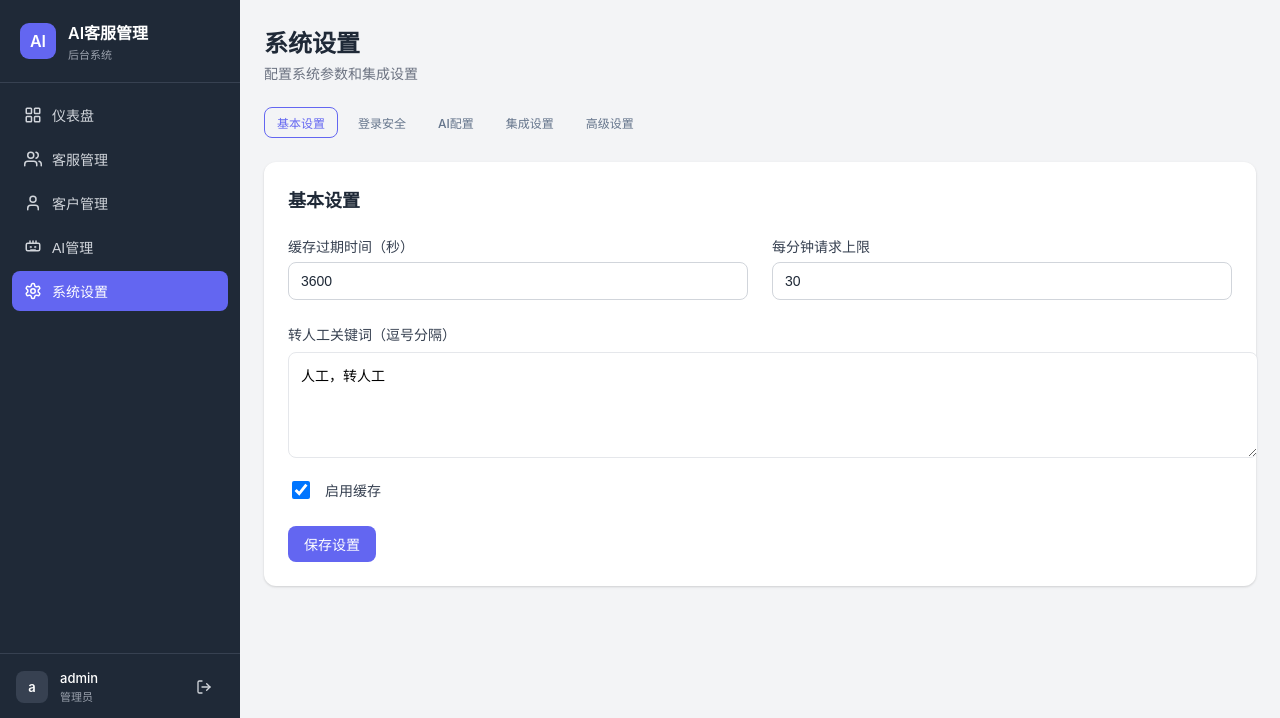
Test: SettingsPage 系统设置 › 生成并显示 Widget 嵌入代码
The width and height of the screenshot is (1280, 718).
Expected: the text "缓存过期时间（秒）" is shown, left=288, top=238, right=414, bottom=255
Click the button "集成设置": (530, 122) left=494, top=107, right=566, bottom=138
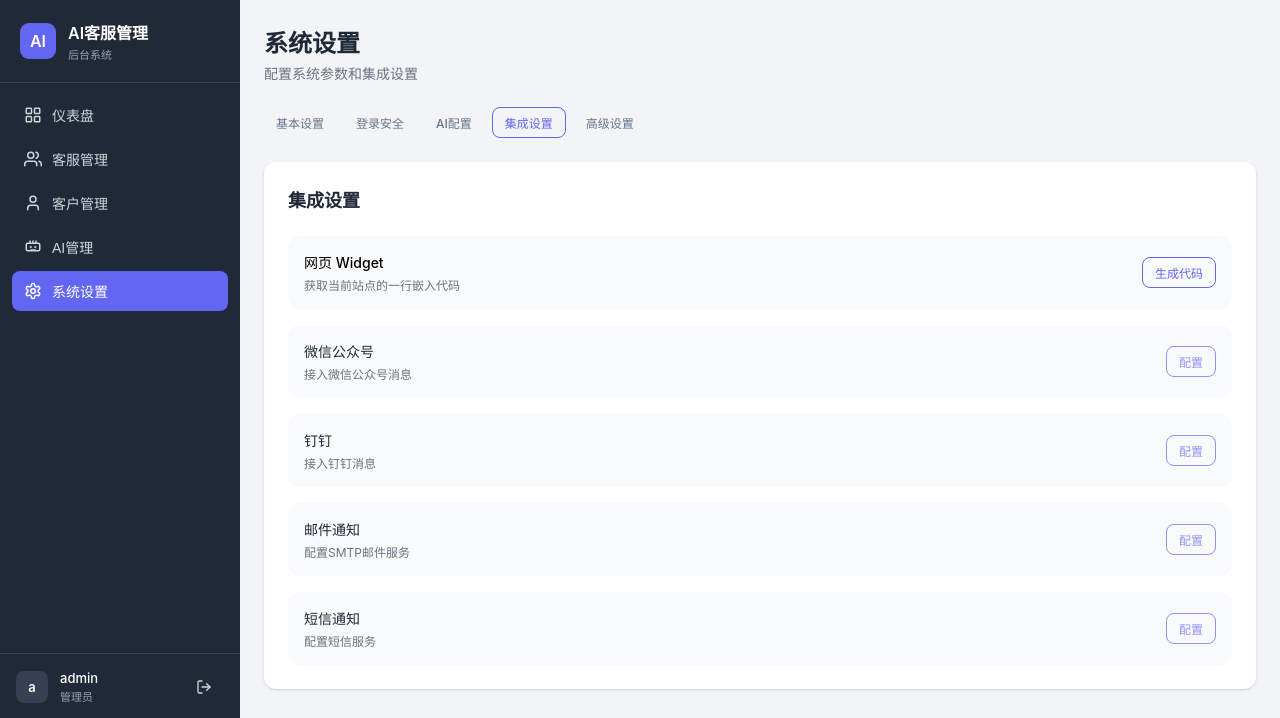
Click the button "生成代码": (1179, 272) left=1142, top=257, right=1216, bottom=288
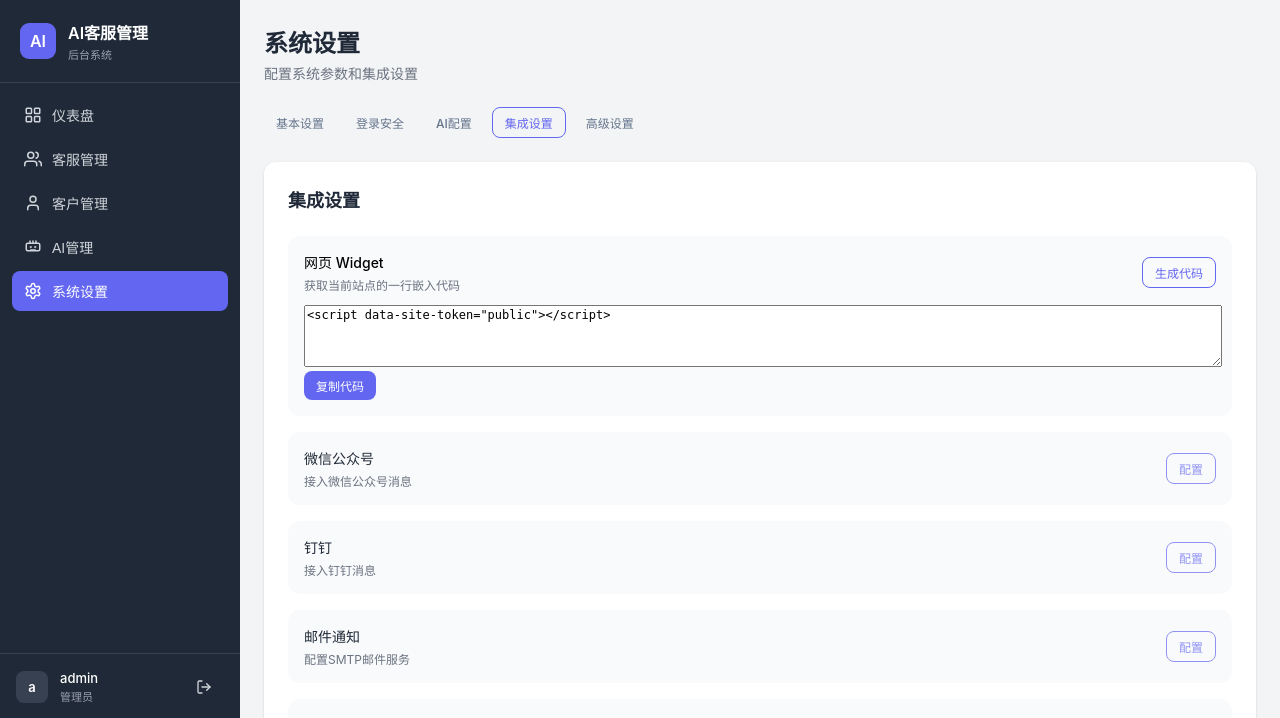
Now the text box named "Widget 嵌入代码" holds "<script data-site-token=\"public\"></script>", box left=304, top=305, right=1222, bottom=367
